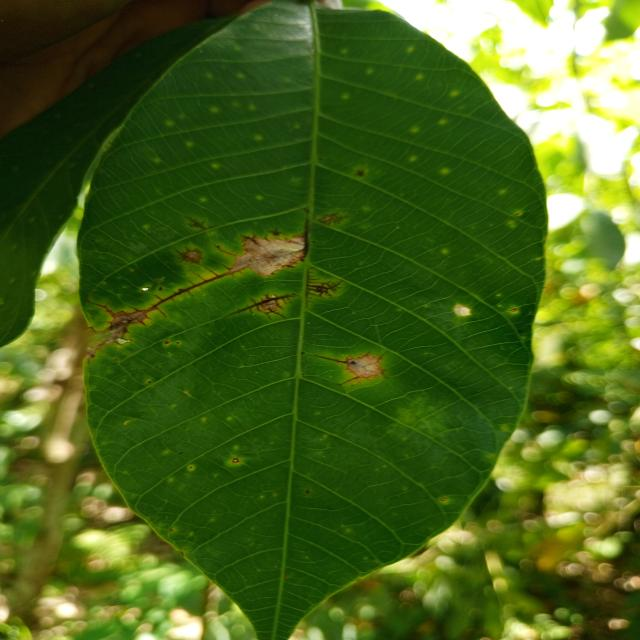Colletotrichum: (232, 458, 239, 463)
Corynespora: (130, 265, 236, 320), (225, 292, 300, 322), (173, 248, 200, 266), (88, 302, 116, 318), (314, 355, 358, 365), (318, 212, 348, 226), (300, 218, 310, 258), (185, 215, 207, 231), (239, 233, 259, 246)
Leaf-Blight: (85, 311, 147, 359), (232, 237, 305, 276), (305, 269, 345, 307), (348, 354, 382, 378)
